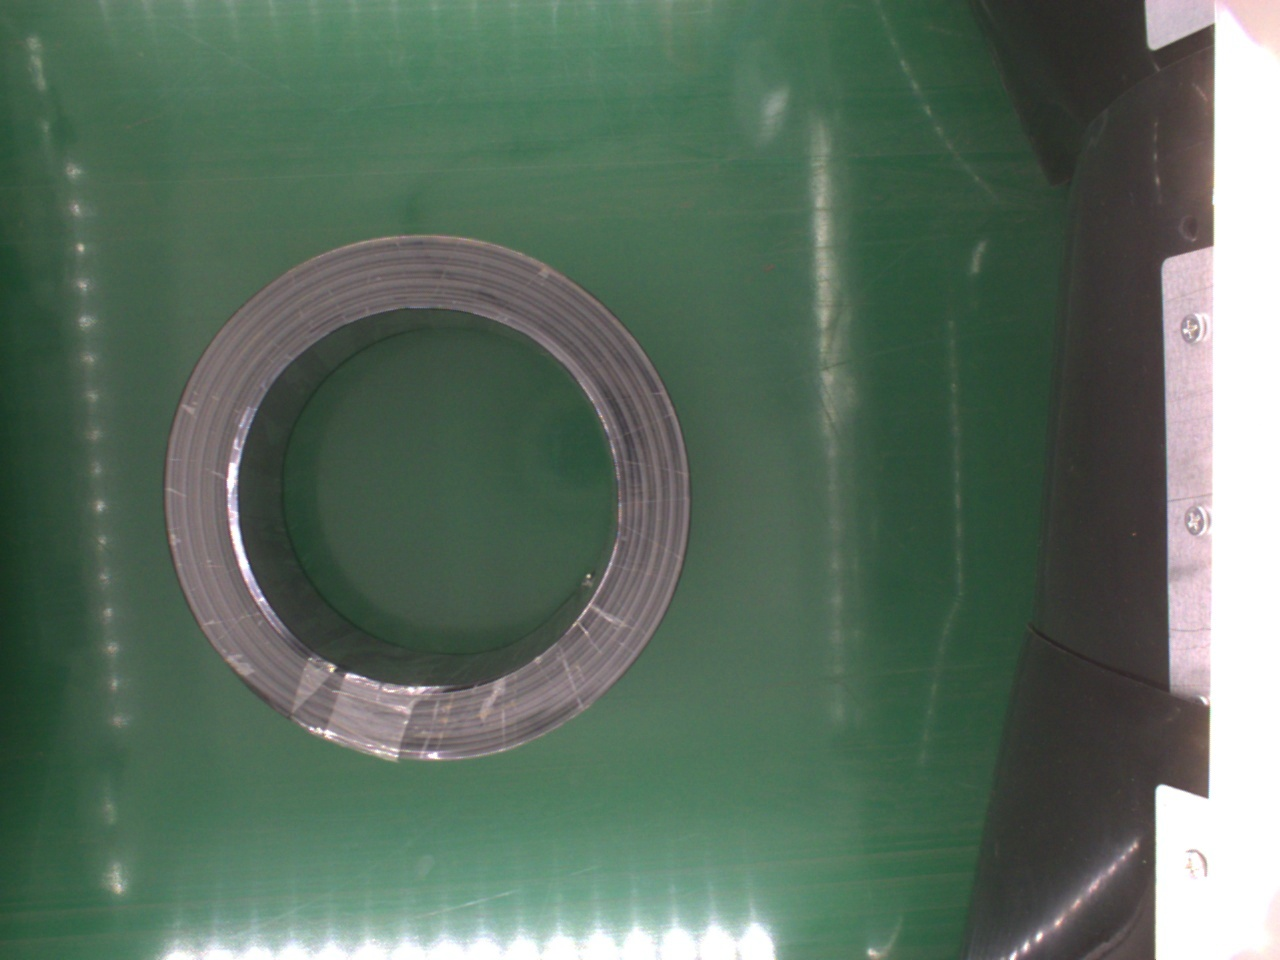black: (163, 235, 695, 766)
